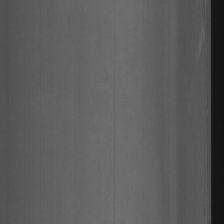silk_spot: (189, 8, 207, 62)
